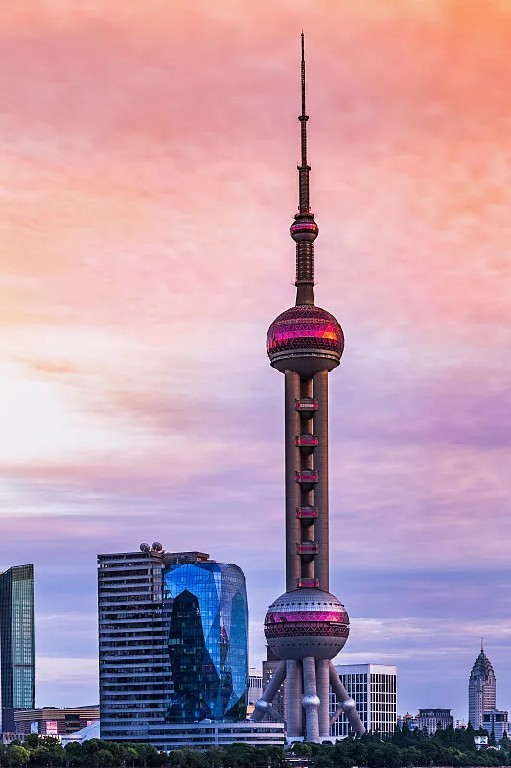Oriental: (254, 29, 366, 739)
